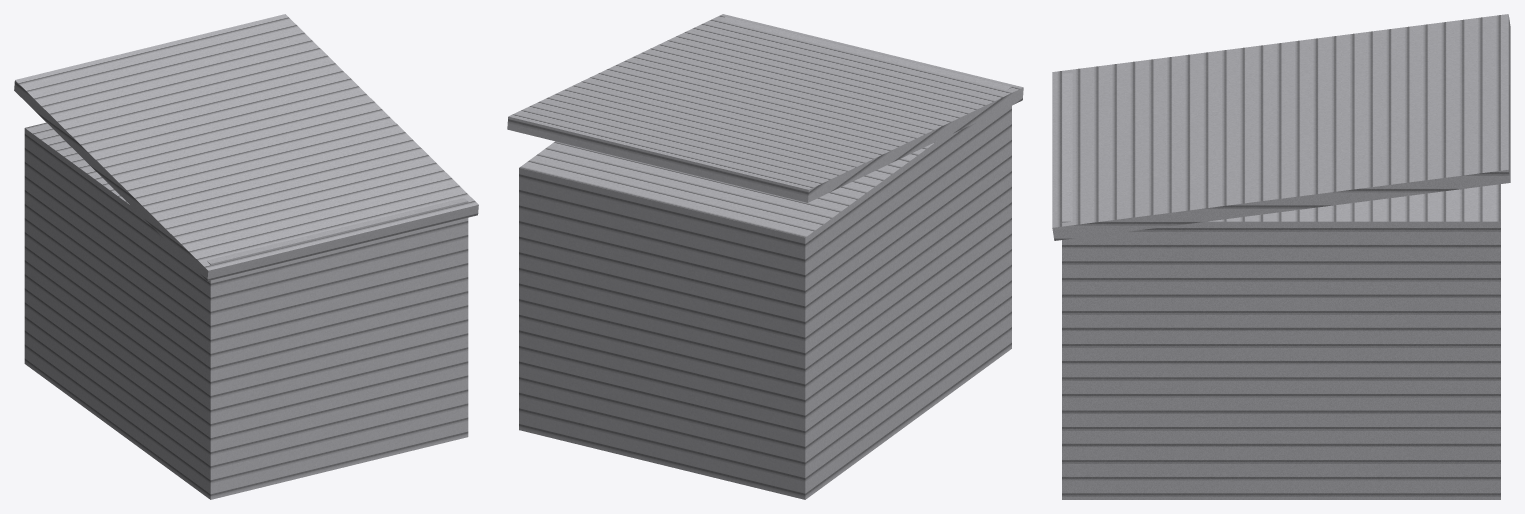
File: shed_storage.glb
3 views of the same model, side by side, from view 1: azimuth 30°, elevation 25°; view 2: azimuth 150°, elevation 25°; view 3: azimuth 270°, elevation 25° (orthographic). The views are drawn at different scales.
Parts seen in each view (by area): view 1: shed_storage-col; view 2: shed_storage-col; view 3: shed_storage-col.
Part boxes in pixels (x1,y1,x2,y2): shed_storage-col: [14, 14, 478, 499]; shed_storage-col: [507, 14, 1023, 499]; shed_storage-col: [1052, 14, 1510, 499].
Bounding box in the file's own units: 2.52 × 2.52 × 3.13.
Materials: 1 (1 with a texture image).
